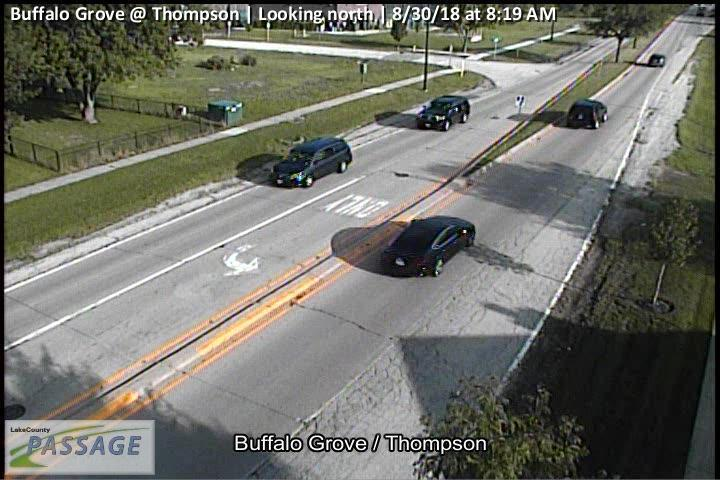SUV: (271, 136, 352, 189), (415, 94, 470, 132), (566, 98, 608, 131)
Sedan: (382, 216, 475, 278), (648, 54, 665, 65)
